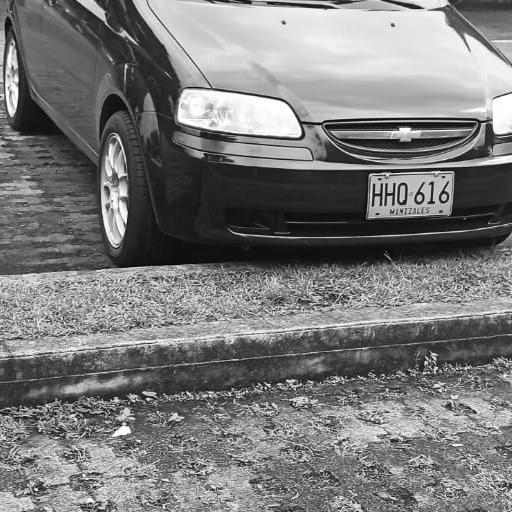placa: (366, 173, 453, 223)
